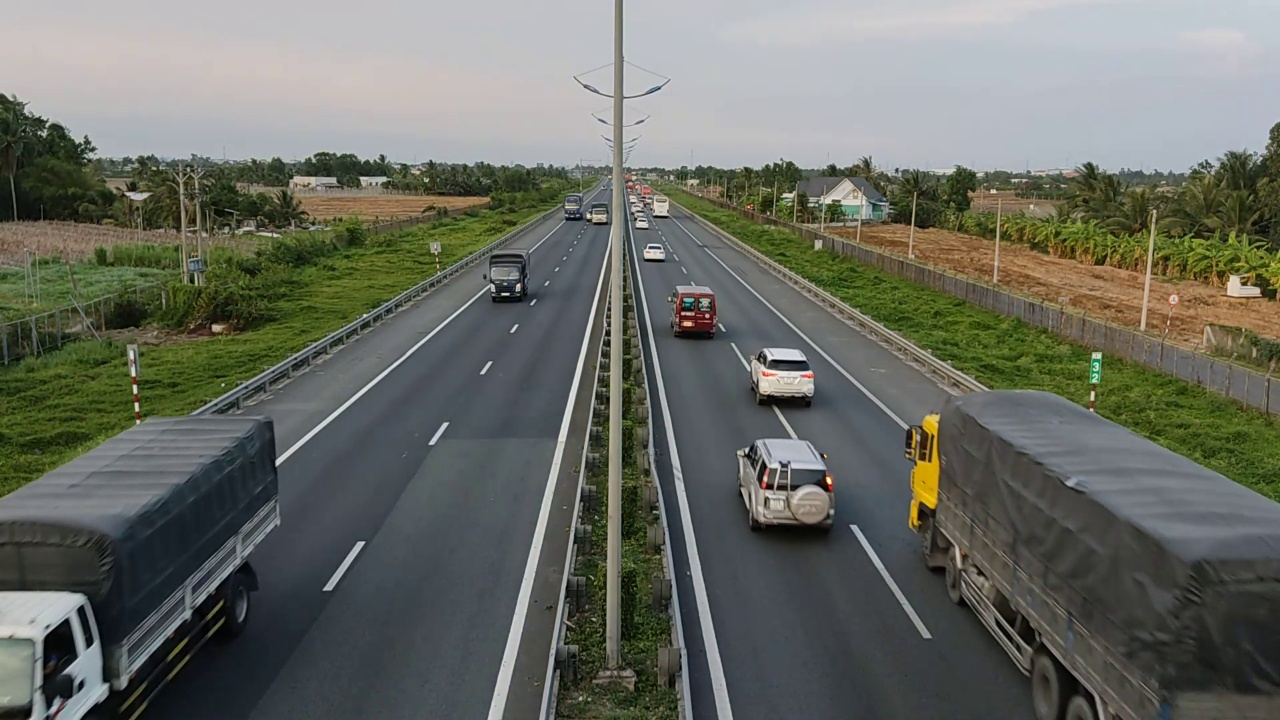car: (748, 345, 815, 407), (670, 282, 719, 338), (643, 242, 665, 261)
truck: (905, 387, 1279, 715), (0, 412, 282, 717), (481, 246, 530, 301)
